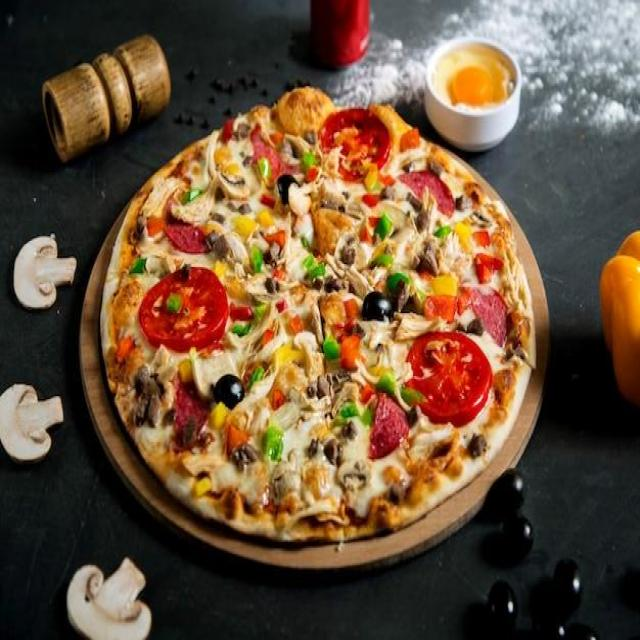olive: (210, 373, 247, 408), (364, 292, 394, 320), (394, 281, 416, 319), (456, 318, 484, 341), (277, 174, 297, 206), (232, 445, 258, 467), (324, 438, 340, 469), (227, 199, 252, 216), (469, 437, 488, 456), (224, 170, 245, 187), (262, 243, 280, 262), (204, 210, 227, 223), (206, 230, 220, 250), (265, 278, 282, 294), (323, 274, 338, 291), (344, 420, 358, 438), (407, 405, 418, 425), (309, 436, 319, 457), (214, 182, 225, 200), (472, 210, 489, 221), (324, 409, 335, 422), (306, 388, 316, 398)
pepperoni: (252, 134, 304, 192), (396, 173, 456, 220), (369, 390, 406, 462), (468, 285, 508, 346), (175, 378, 209, 436), (162, 218, 207, 255)
pizza: (100, 87, 542, 543)
